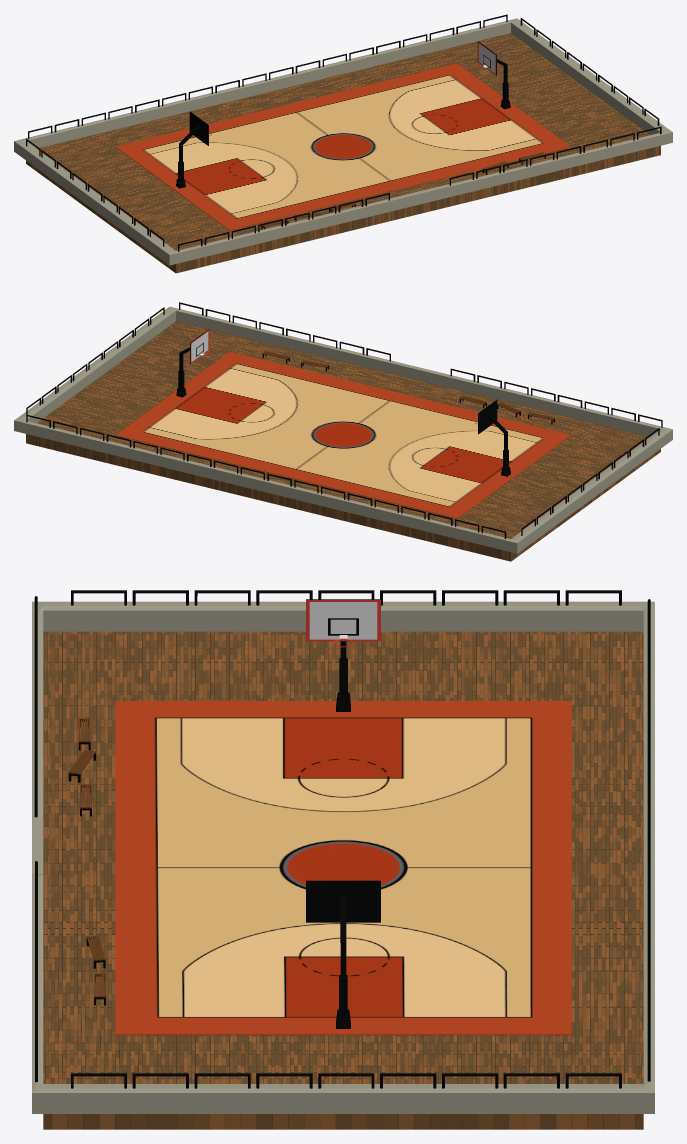
File: unityBasketballCourt_backup.fbx
3 renders of one model, top to bottom at view 1: azimuth 30°, elevation 25°; view 2: azimuth 150°, elevation 25°; view 3: azimuth 270°, elevation 25°, orthographic. The views are drawn at different scales.
Parts seen in each view (by area): view 1: WholeTerrain, PlayingGround, Fence Back, Fence LF, Fence RF, Fance RB, Fence LB, Panel.001, Panel; view 2: WholeTerrain, PlayingGround, Fence Back, Fence LF, Fence RF, Fence LB, Fance RB, Panel.001, Panel; view 3: WholeTerrain, PlayingGround, Panel, Panel.001, Fance RB, Fence LB, Fence Back, PanelSupport.001, Fence LF.
Boxes of the visible parts, <box> form: WholeTerrain: <box>14,18,672,273</box>; PlayingGround: <box>116,63,570,230</box>; Fence Back: <box>28,14,507,138</box>; Fence LF: <box>178,193,389,251</box>; Fence RF: <box>449,126,661,185</box>; Fance RB: <box>520,18,659,125</box>; Fence LB: <box>26,138,164,246</box>; Panel.001: <box>477,41,496,75</box>; Panel: <box>189,111,208,145</box>; WholeTerrain: <box>14,306,672,561</box>; PlayingGround: <box>115,351,571,518</box>; Fence Back: <box>26,414,506,538</box>; Fence LF: <box>450,368,662,427</box>; Fence RF: <box>179,302,390,361</box>; Fence LB: <box>521,428,659,535</box>; Fance RB: <box>26,307,164,414</box>; Panel.001: <box>190,329,209,363</box>; Panel: <box>478,400,497,434</box>; WholeTerrain: <box>32,601,654,1129</box>; PlayingGround: <box>115,701,571,1035</box>; Panel: <box>306,599,380,641</box>; Panel.001: <box>306,880,380,922</box>; Fance RB: <box>71,1073,621,1088</box>; Fence LB: <box>71,590,621,605</box>; Fence Back: <box>647,599,650,1081</box>; PanelSupport.001: <box>336,894,350,1028</box>; Fence LF: <box>34,596,37,817</box>.
Bounding box in the file's own units: 2800 × 405 × 1500.
7 materials, 2 textured.
